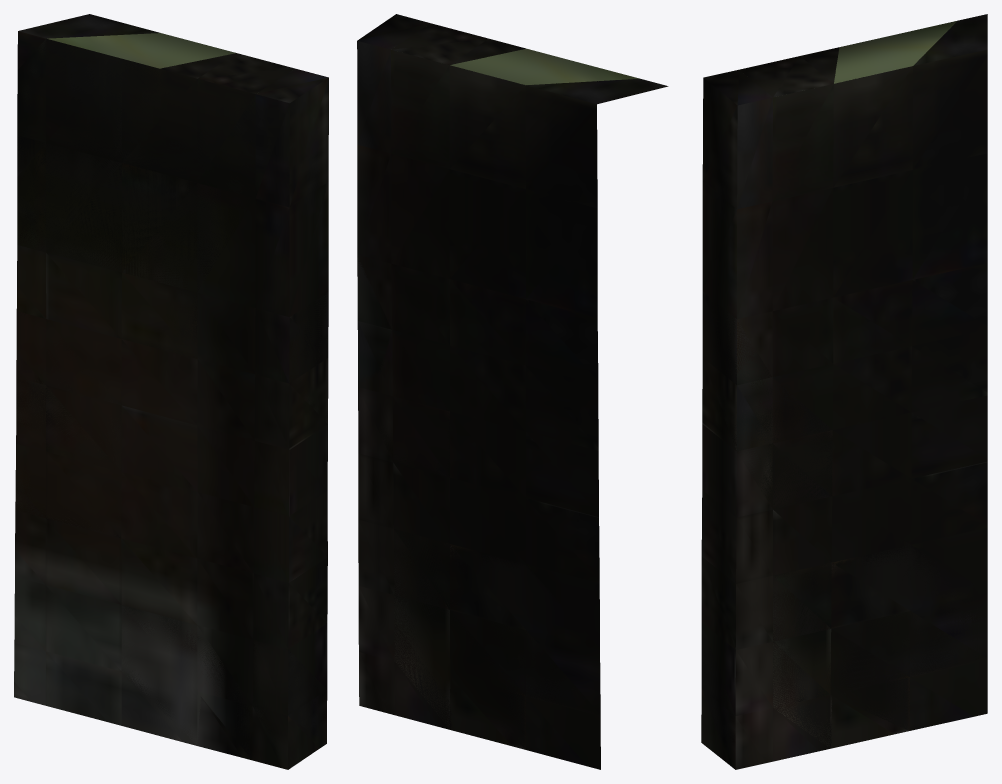
The picture shows the model from 3 angles, left to right: view 1: azimuth 30°, elevation 25°; view 2: azimuth 210°, elevation 25°; view 3: azimuth 270°, elevation 25°; orthographic projection.
Size of the model in its own units: 0.2039 by 0.6819 by 0.2656.
Materials: 1 (1 with a texture image).
